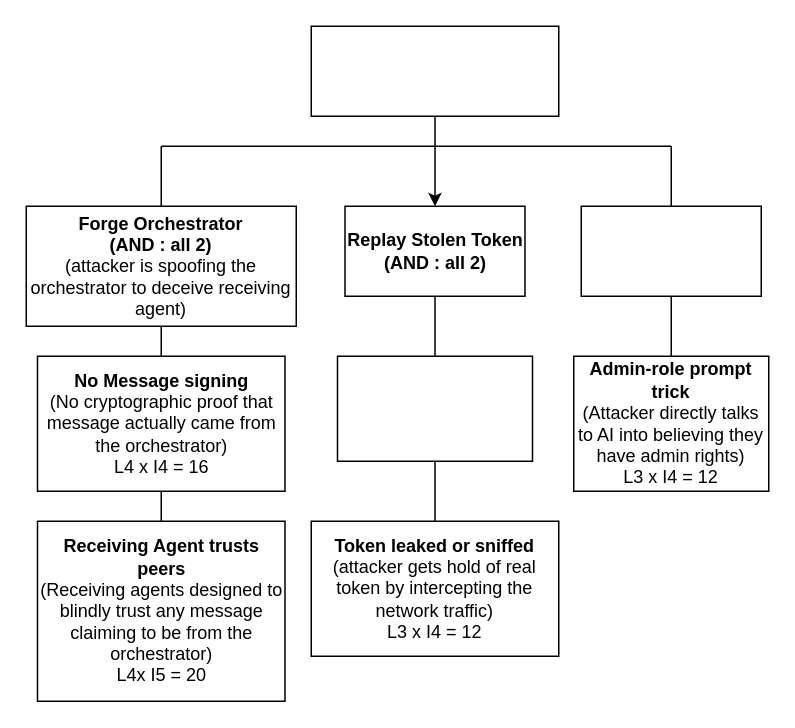
Image size: 795x728. Some labels were removed from this diagram. Each missing label, with the centre of its shape:
GOAL :Call admin API ROOT RISK : 20: the point at 434,70
Long lived token (Token stay valid for a long time) L3 x I4 = 12: the point at 434,408
Prompt Role Elevation Single Step: the point at 670,250
